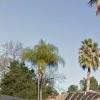Palm tree: (75, 32, 99, 92)
